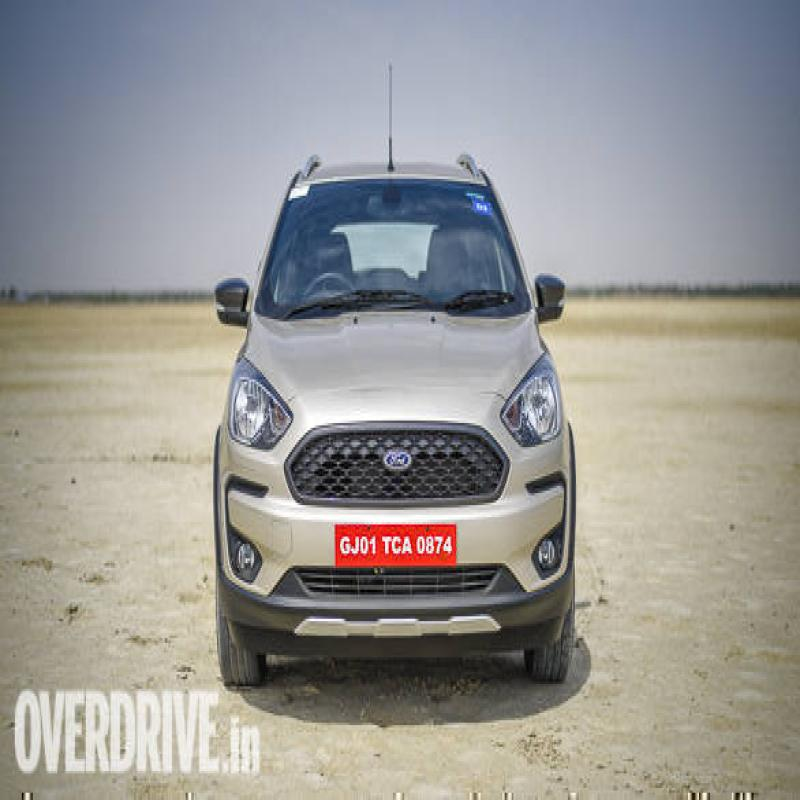car: (174, 158, 633, 654)
